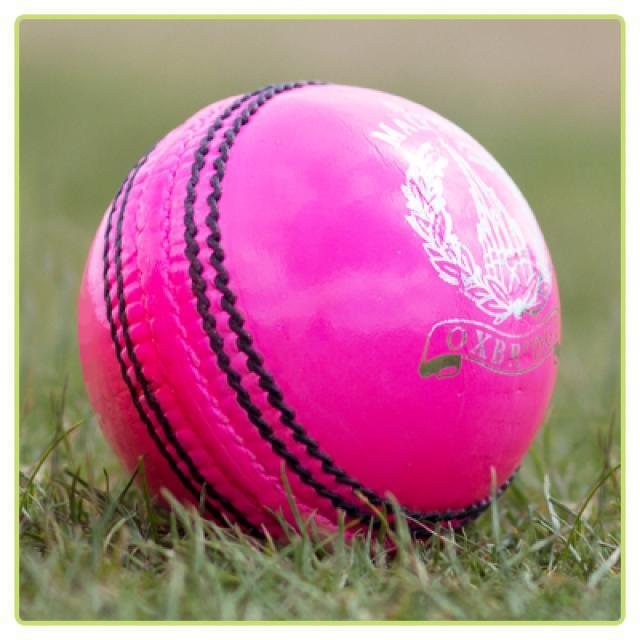cricket ball: (76, 81, 561, 543)
